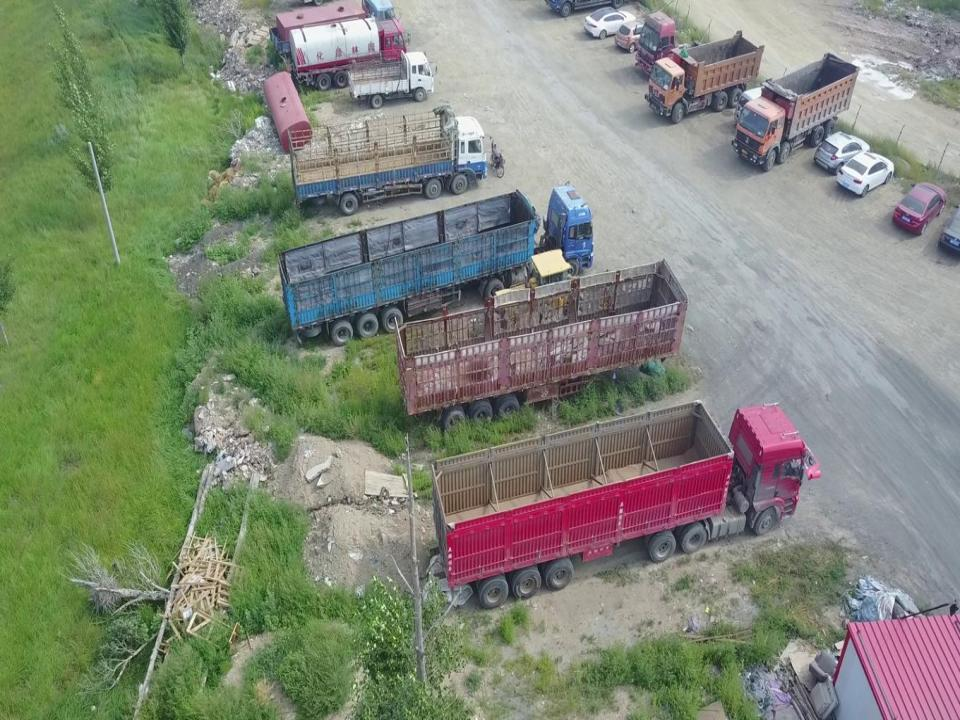car: (892, 183, 946, 235), (836, 152, 894, 197), (584, 6, 636, 40), (938, 204, 960, 255)
truck: (432, 399, 820, 609), (278, 181, 594, 346), (288, 106, 494, 216), (731, 53, 860, 173), (644, 29, 764, 124), (281, 8, 411, 92), (269, 0, 397, 65), (634, 11, 726, 83), (347, 49, 437, 108)
van: (813, 131, 870, 176), (734, 82, 787, 130), (615, 20, 661, 52)
